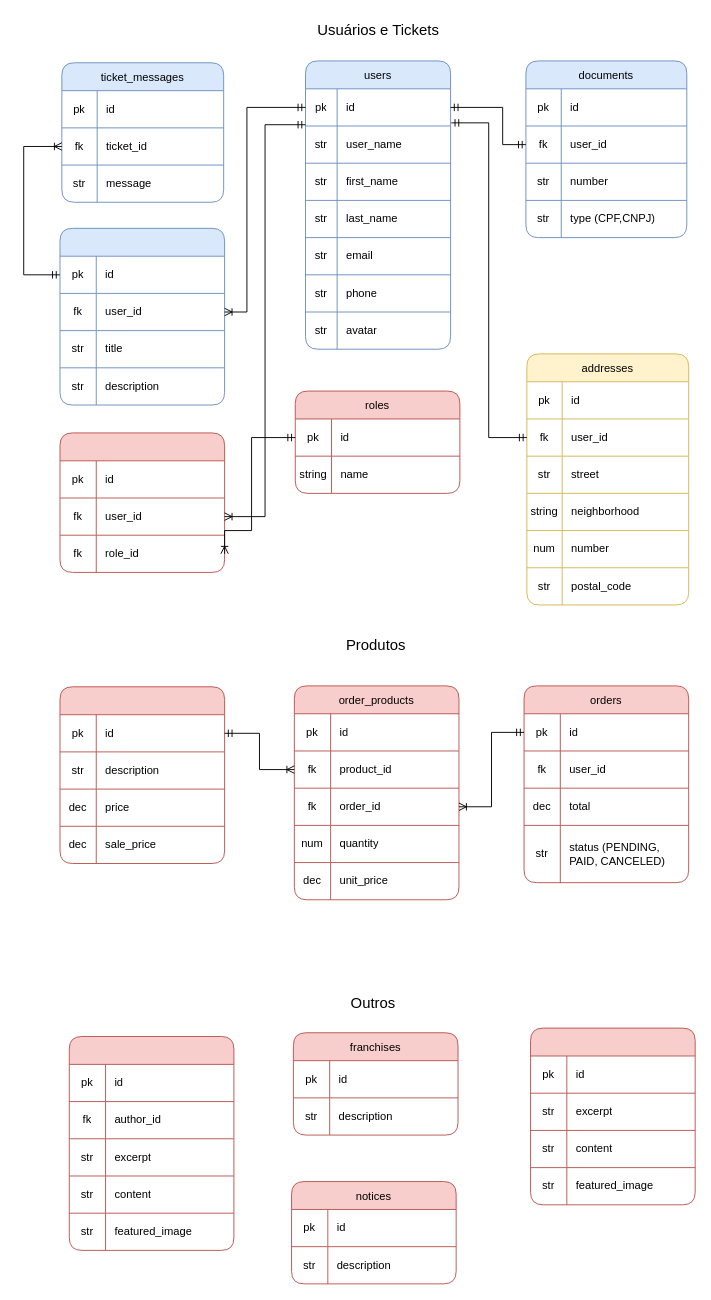
Some shapes in this 711 by 1300 pixel diagram are drawn without their labels. The box of each missing label's shape, as (x1, y1, x2, y2) in pixels:
articles: (68, 1036, 234, 1250)
products: (59, 686, 225, 864)
services: (530, 1027, 695, 1205)
tickets: (59, 227, 225, 405)
user_roles: (59, 432, 225, 572)
